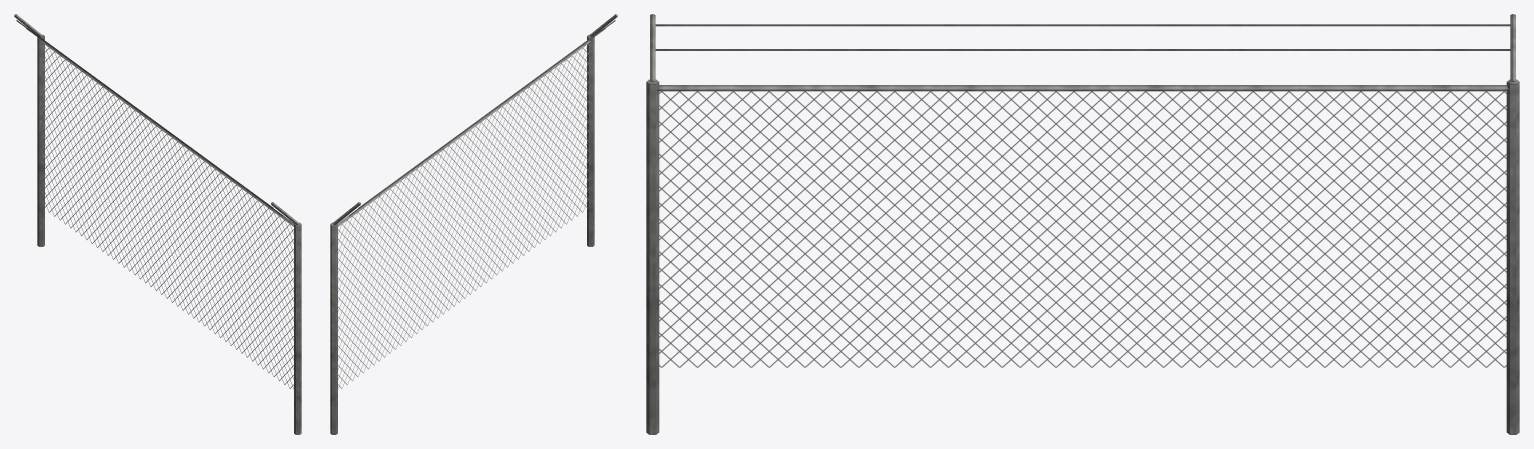
Rendered from fence.glb.
The picture shows the model from 3 angles, left to right: view 1: azimuth 30°, elevation 25°; view 2: azimuth 150°, elevation 25°; view 3: azimuth 270°, elevation 25°; orthographic projection. The views are drawn at different scales.
Parts seen in each view (by area): view 1: fence; view 2: fence; view 3: fence.
Part boxes in pixels (<box>): fence: <box>14,14,301,434</box>; fence: <box>330,14,617,434</box>; fence: <box>646,14,1519,434</box>.
Bounding box in the file's own units: 0.4031 × 3.06 × 6.09.
2 materials, 2 textured.
